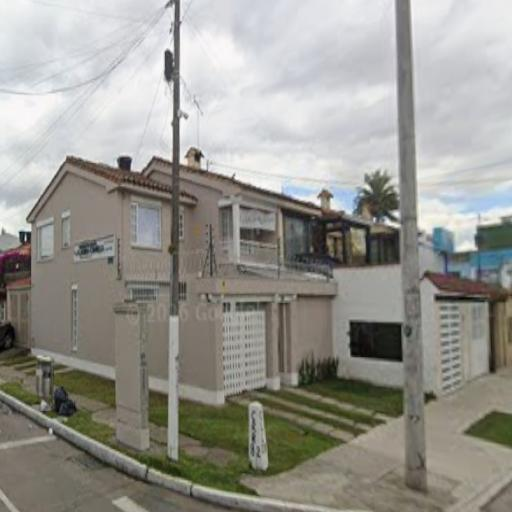poste: (391, 0, 429, 495), (165, 0, 183, 462)
